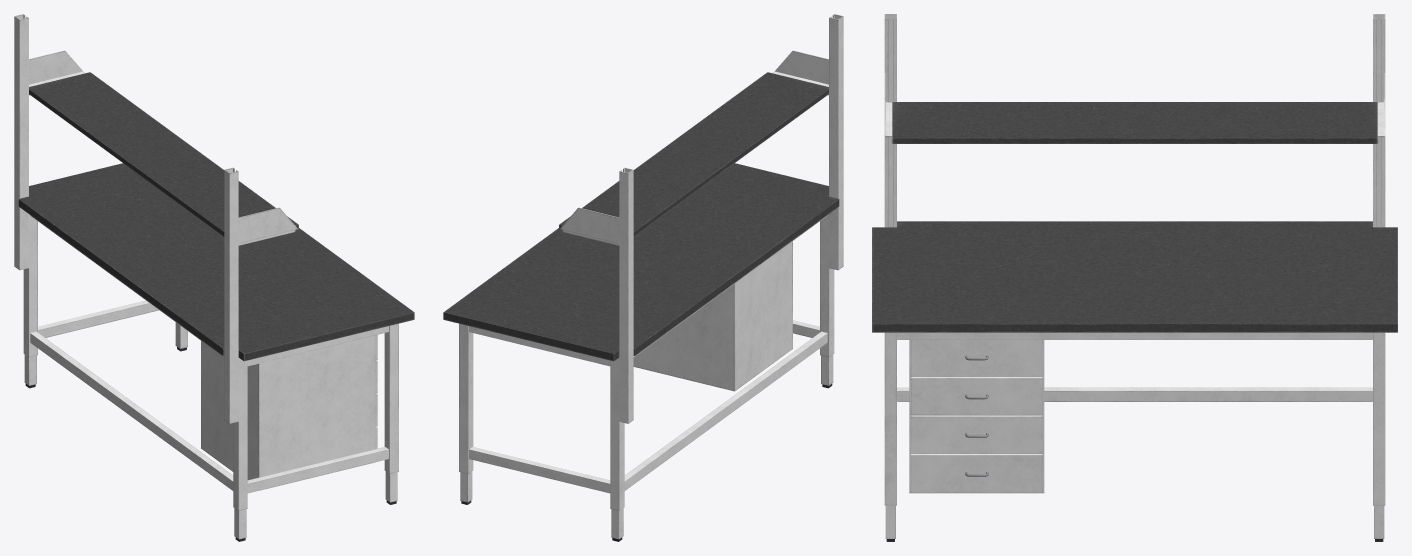
Rendered from Lab Table.fbx.
The picture shows the model from 3 angles, left to right: view 1: azimuth 30°, elevation 25°; view 2: azimuth 150°, elevation 25°; view 3: azimuth 270°, elevation 25°; orthographic projection. The views are drawn at different scales.
Parts seen in each view (by area): view 1: Base, Box, Holder; view 2: Base, Holder, Box; view 3: Base, Holder, Box.
Part boxes in pixels (<box>): Base: <box>14,14,414,541</box>; Box: <box>201,335,377,490</box>; Holder: <box>29,50,298,245</box>; Base: <box>443,14,843,541</box>; Holder: <box>559,50,828,245</box>; Box: <box>633,241,792,391</box>; Base: <box>872,14,1397,541</box>; Holder: <box>884,73,1385,143</box>; Box: <box>909,340,1044,493</box>.
Size of the model in its own units: 10177 by 19973 by 22000.
